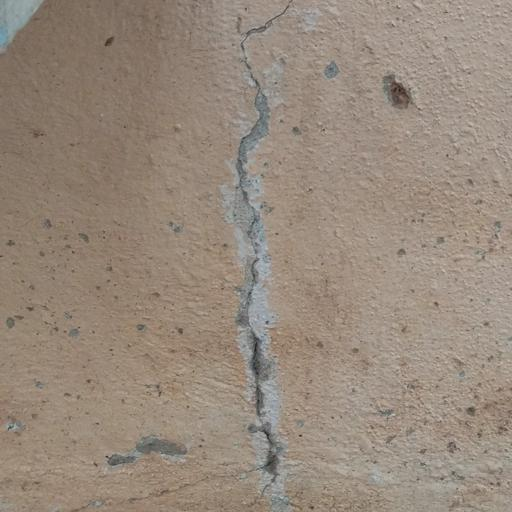major_crack: (209, 0, 334, 506)
